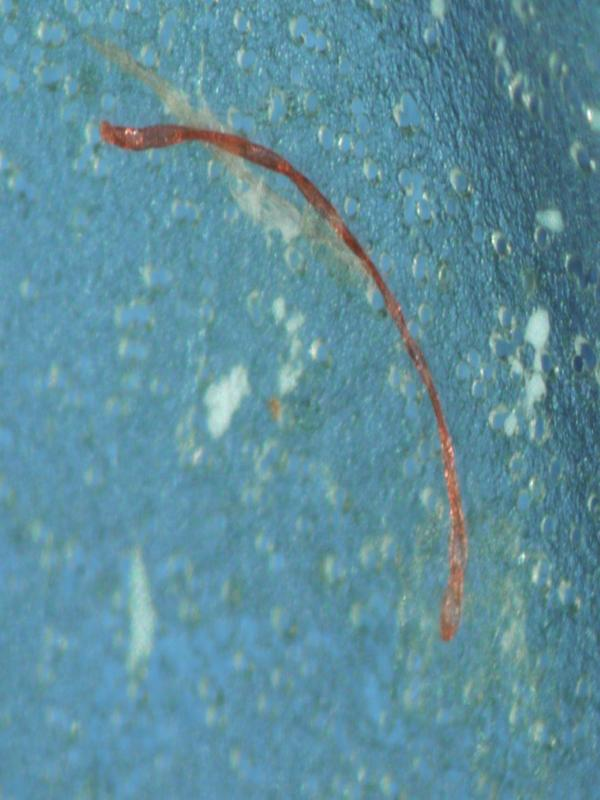microplastic: (82, 30, 470, 643)
